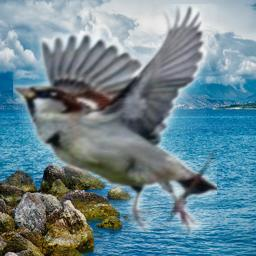Sparrow: (13, 4, 217, 232)
